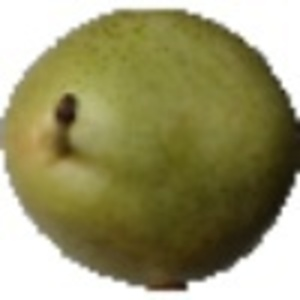pera: (1, 5, 300, 300)
